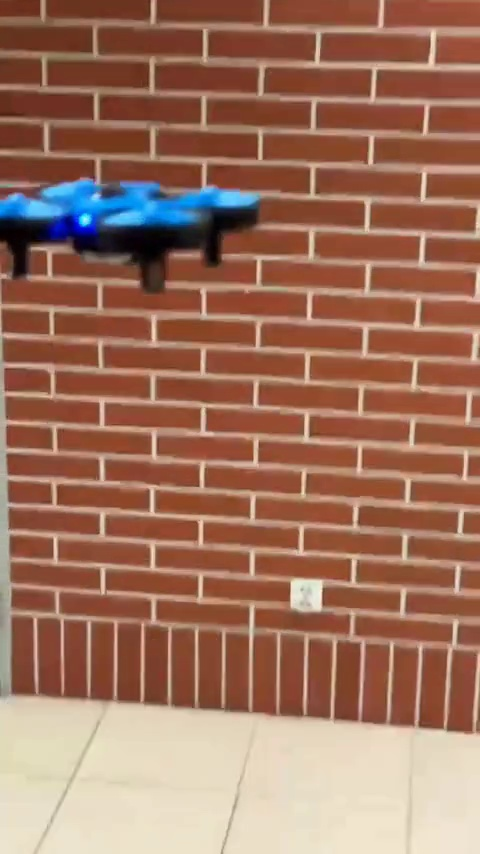drone: (0, 175, 264, 294)
